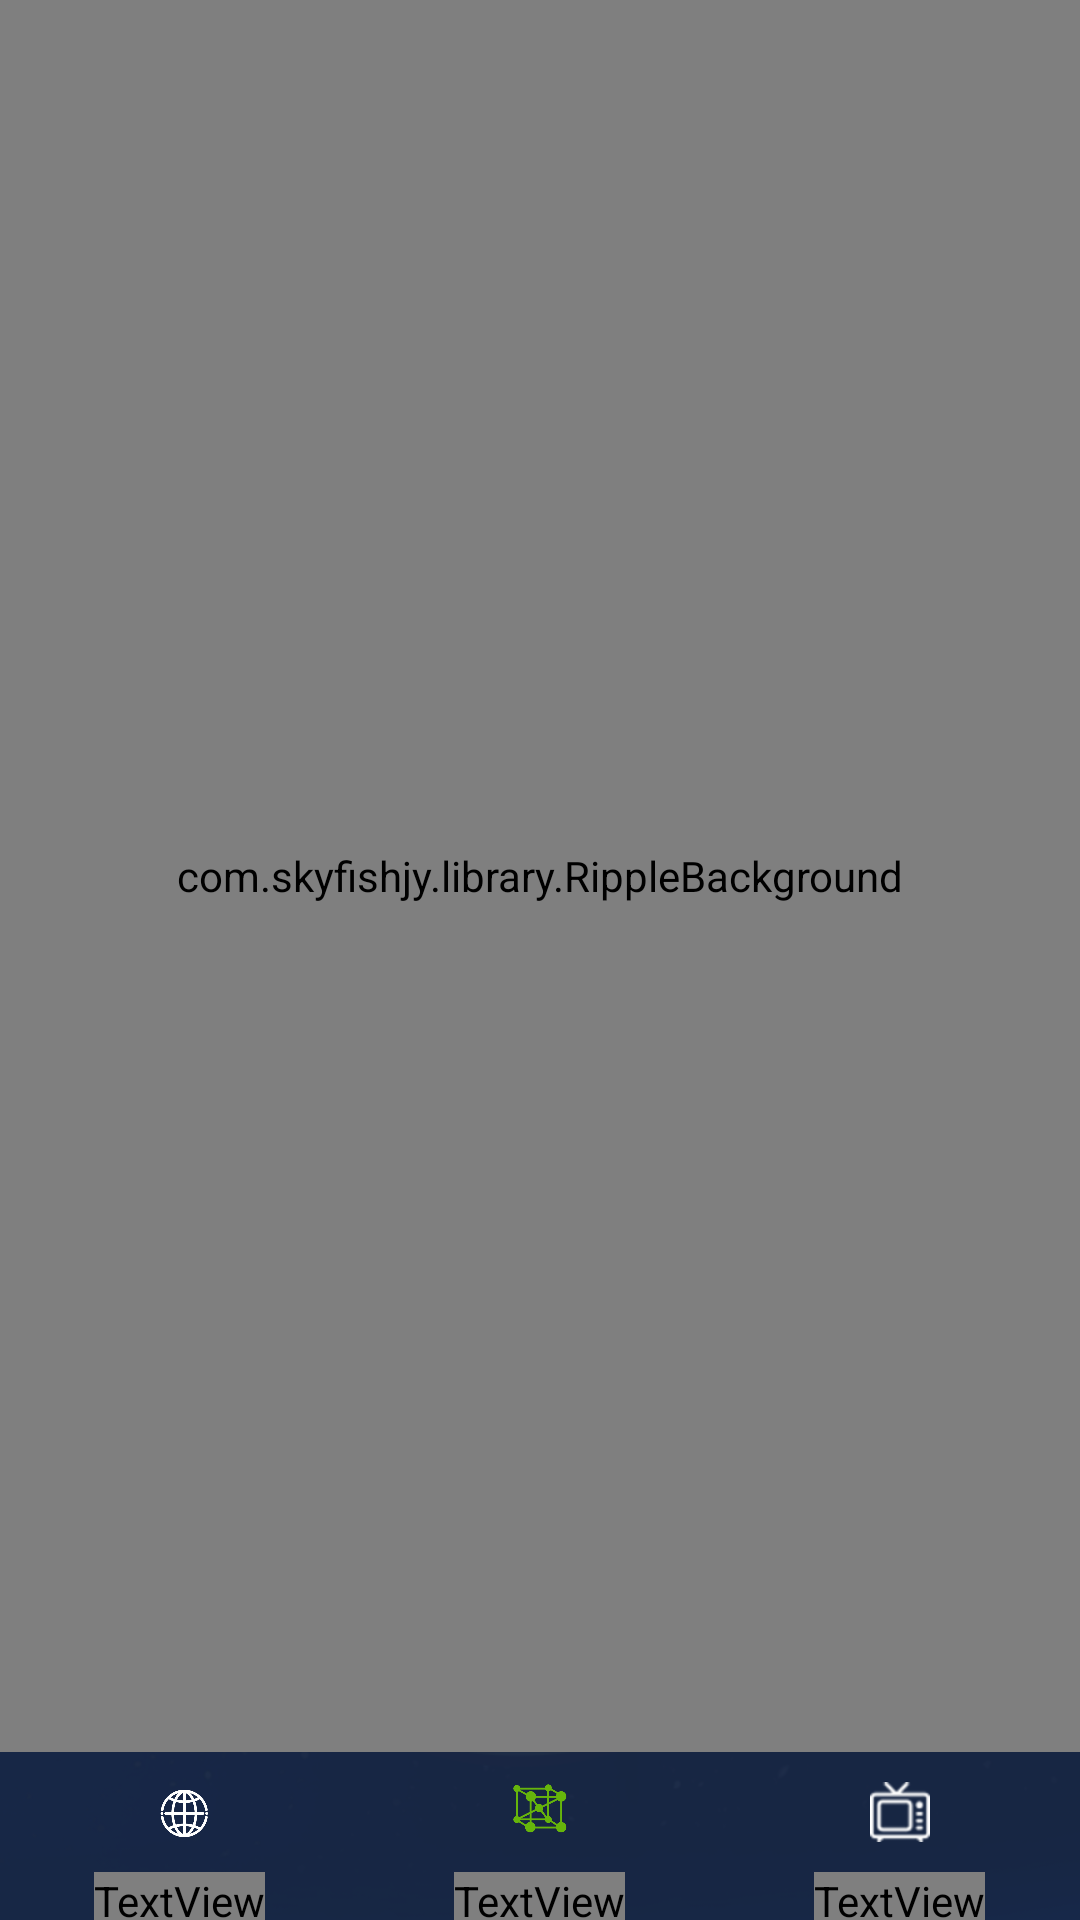

Where to tap for icons on this 1080 x 1920 app screen, as [x,y]:
locations: [184,1813]
